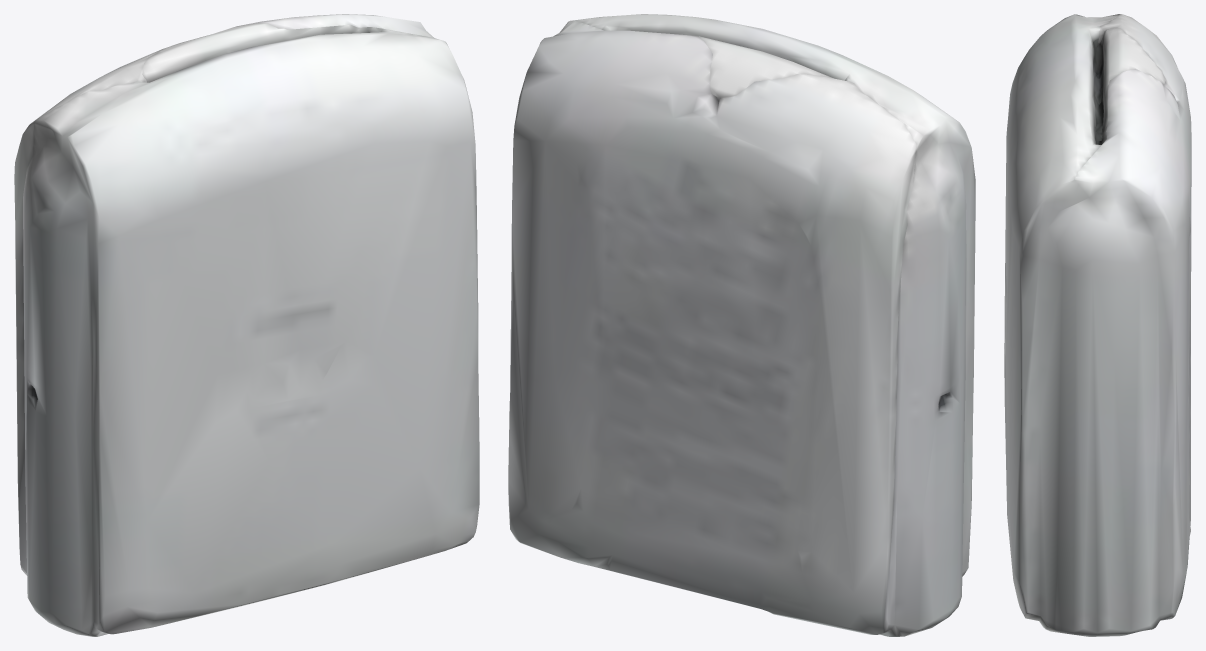
Rendered from Fujifilm_instax_SHARE_SP1_10_photos-medium.glb.
3 renders of one model, left to right at view 1: azimuth 30°, elevation 25°; view 2: azimuth 150°, elevation 25°; view 3: azimuth 270°, elevation 25°, orthographic. The views are drawn at different scales.
Visible parts, largest first — view 1: Fujifilm_instax_SHARE_SP1_10_photos; view 2: Fujifilm_instax_SHARE_SP1_10_photos; view 3: Fujifilm_instax_SHARE_SP1_10_photos.
Boxes of the visible parts, x1,y1,x2,y2 form: Fujifilm_instax_SHARE_SP1_10_photos: (14, 14, 479, 636); Fujifilm_instax_SHARE_SP1_10_photos: (508, 14, 975, 636); Fujifilm_instax_SHARE_SP1_10_photos: (1004, 14, 1191, 636).
Size of the model in its own units: 0.1027 by 0.1237 by 0.0428.
1 material, 1 textured.
